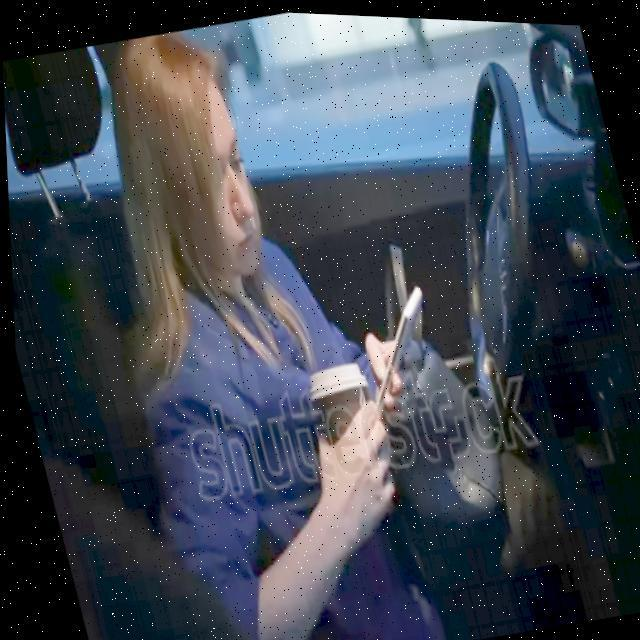Drinking: (299, 348, 399, 512)
